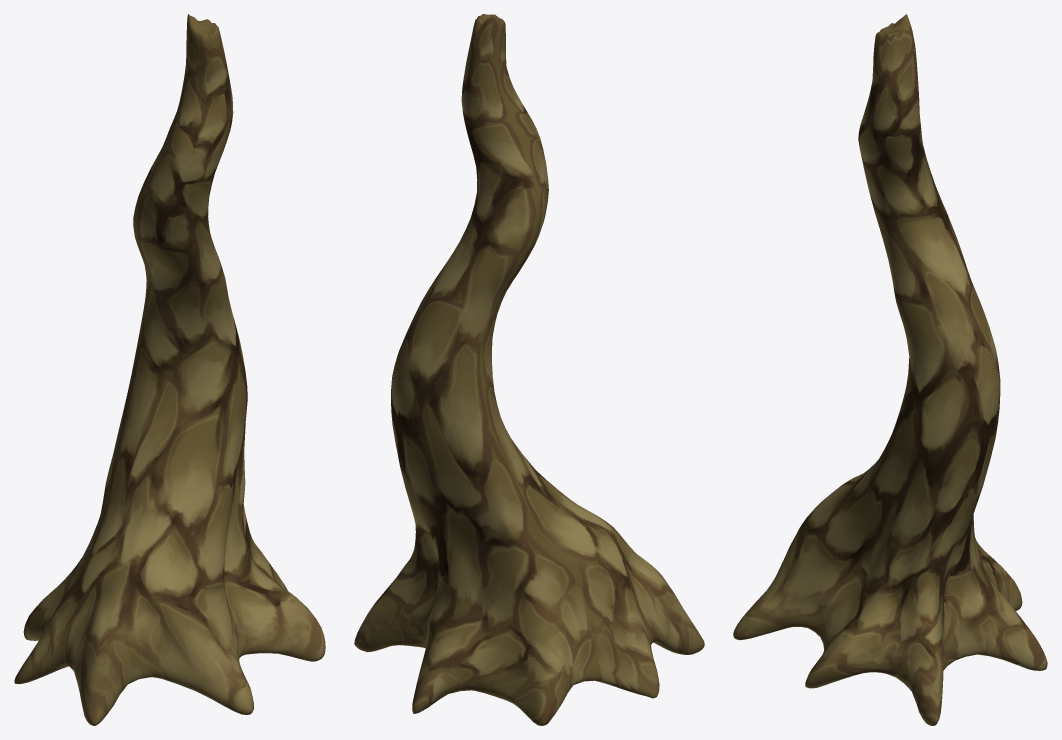
The model's file is treeBaseCurved 1.fbx.
3 renders of one model, left to right at view 1: azimuth 30°, elevation 25°; view 2: azimuth 150°, elevation 25°; view 3: azimuth 270°, elevation 25°, orthographic.
Visible parts, largest first — view 1: pCylinder19; view 2: pCylinder19; view 3: pCylinder19.
Boxes of the visible parts, left/top/right/bottom form: pCylinder19: left=14, top=14, right=325, bottom=725; pCylinder19: left=354, top=14, right=704, bottom=725; pCylinder19: left=733, top=14, right=1047, bottom=725.
Size of the model in its own units: 555 by 1186 by 515.
1 material, 1 textured.
